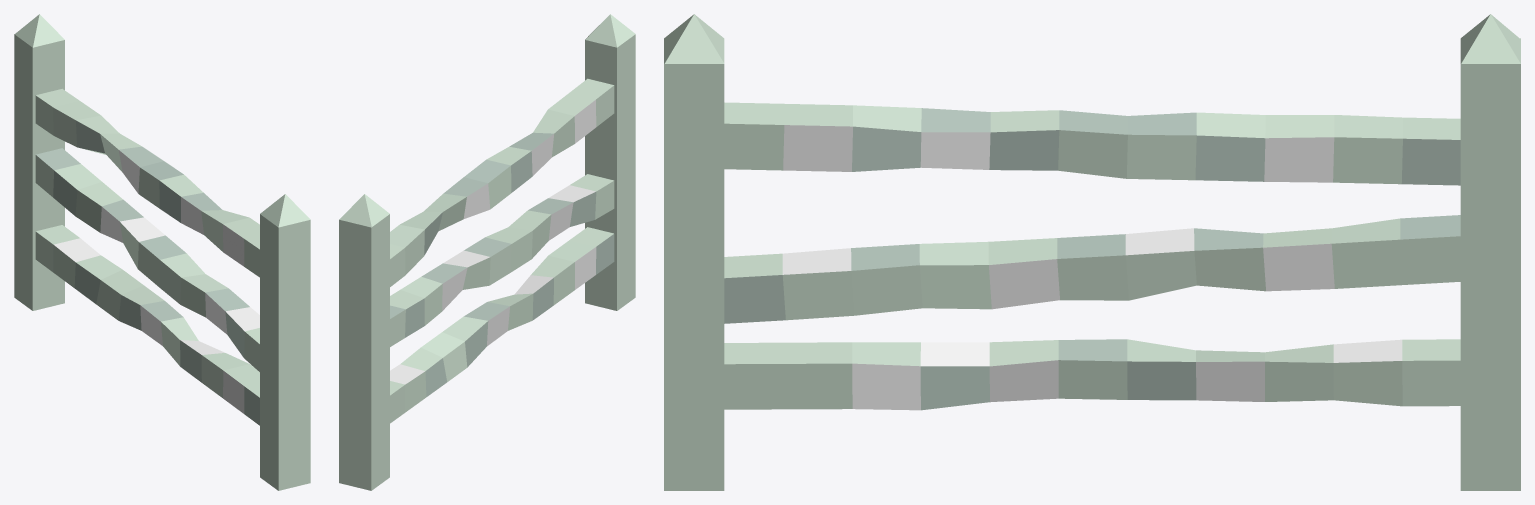
File: white_fence.fbx
3 renders of one model, left to right at view 1: azimuth 30°, elevation 25°; view 2: azimuth 150°, elevation 25°; view 3: azimuth 270°, elevation 25°, orthographic. The views are drawn at different scales.
Parts seen in each view (by area): view 1: Cube; view 2: Cube; view 3: Cube.
Boxes of the visible parts, x1,y1,x2,y2 form: Cube: (14, 14, 310, 490); Cube: (339, 14, 635, 490); Cube: (664, 14, 1520, 490).
Bounding box in the file's own units: 75.12 × 636 × 1064.
